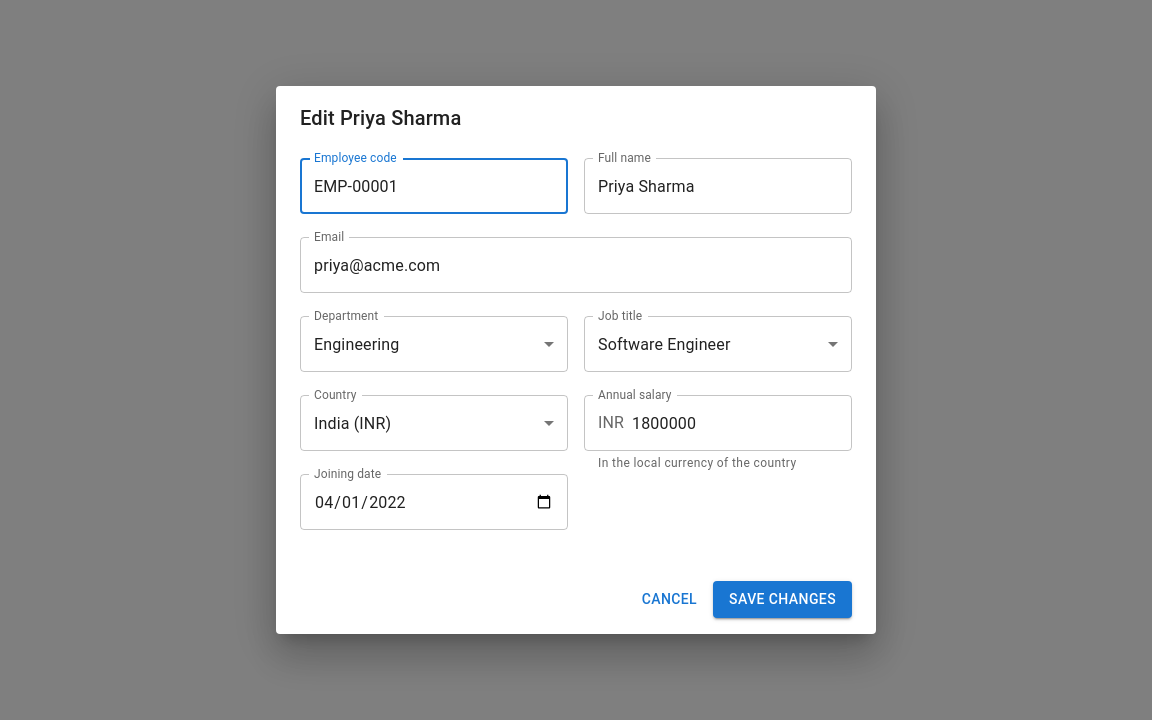
it: EmployeeFormDialog › shows an error from the API next to the field it belongs to
The width and height of the screenshot is (1152, 720).
What coordinates should you click on to do the following:
click the button "Save changes"
I would click on:
 (783, 599)
Its box is left=713, top=581, right=852, bottom=618.
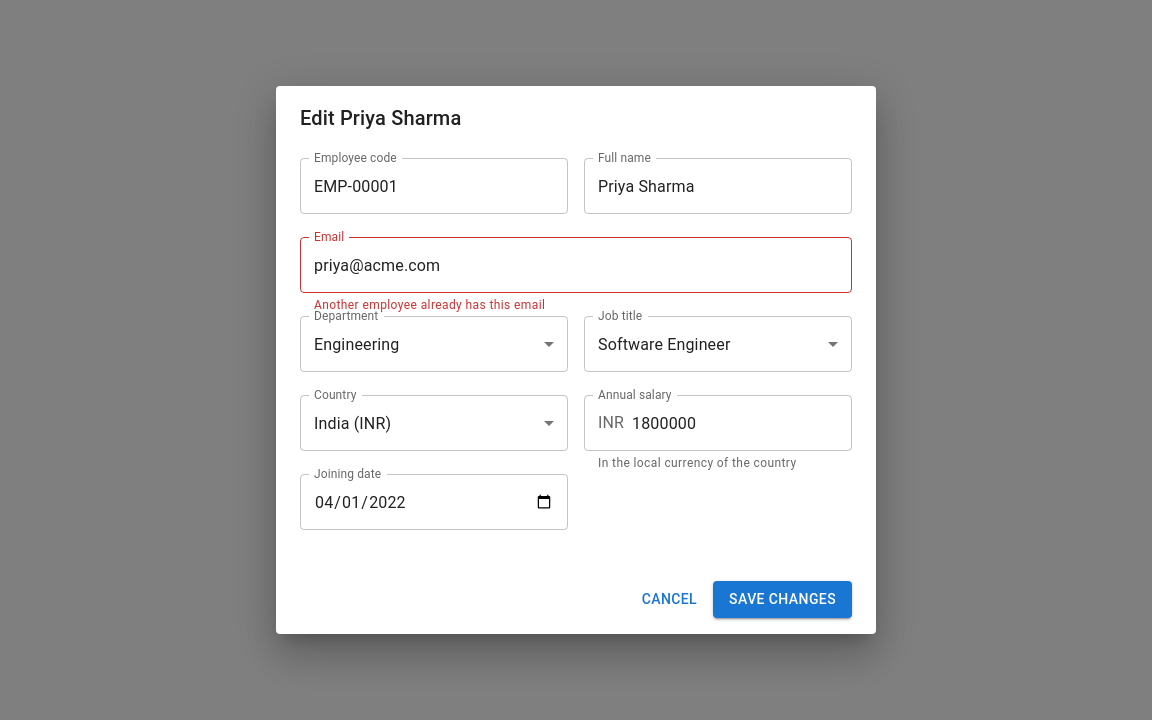
Check: the text "Another employee already has this email" is shown, box left=314, top=298, right=545, bottom=312
